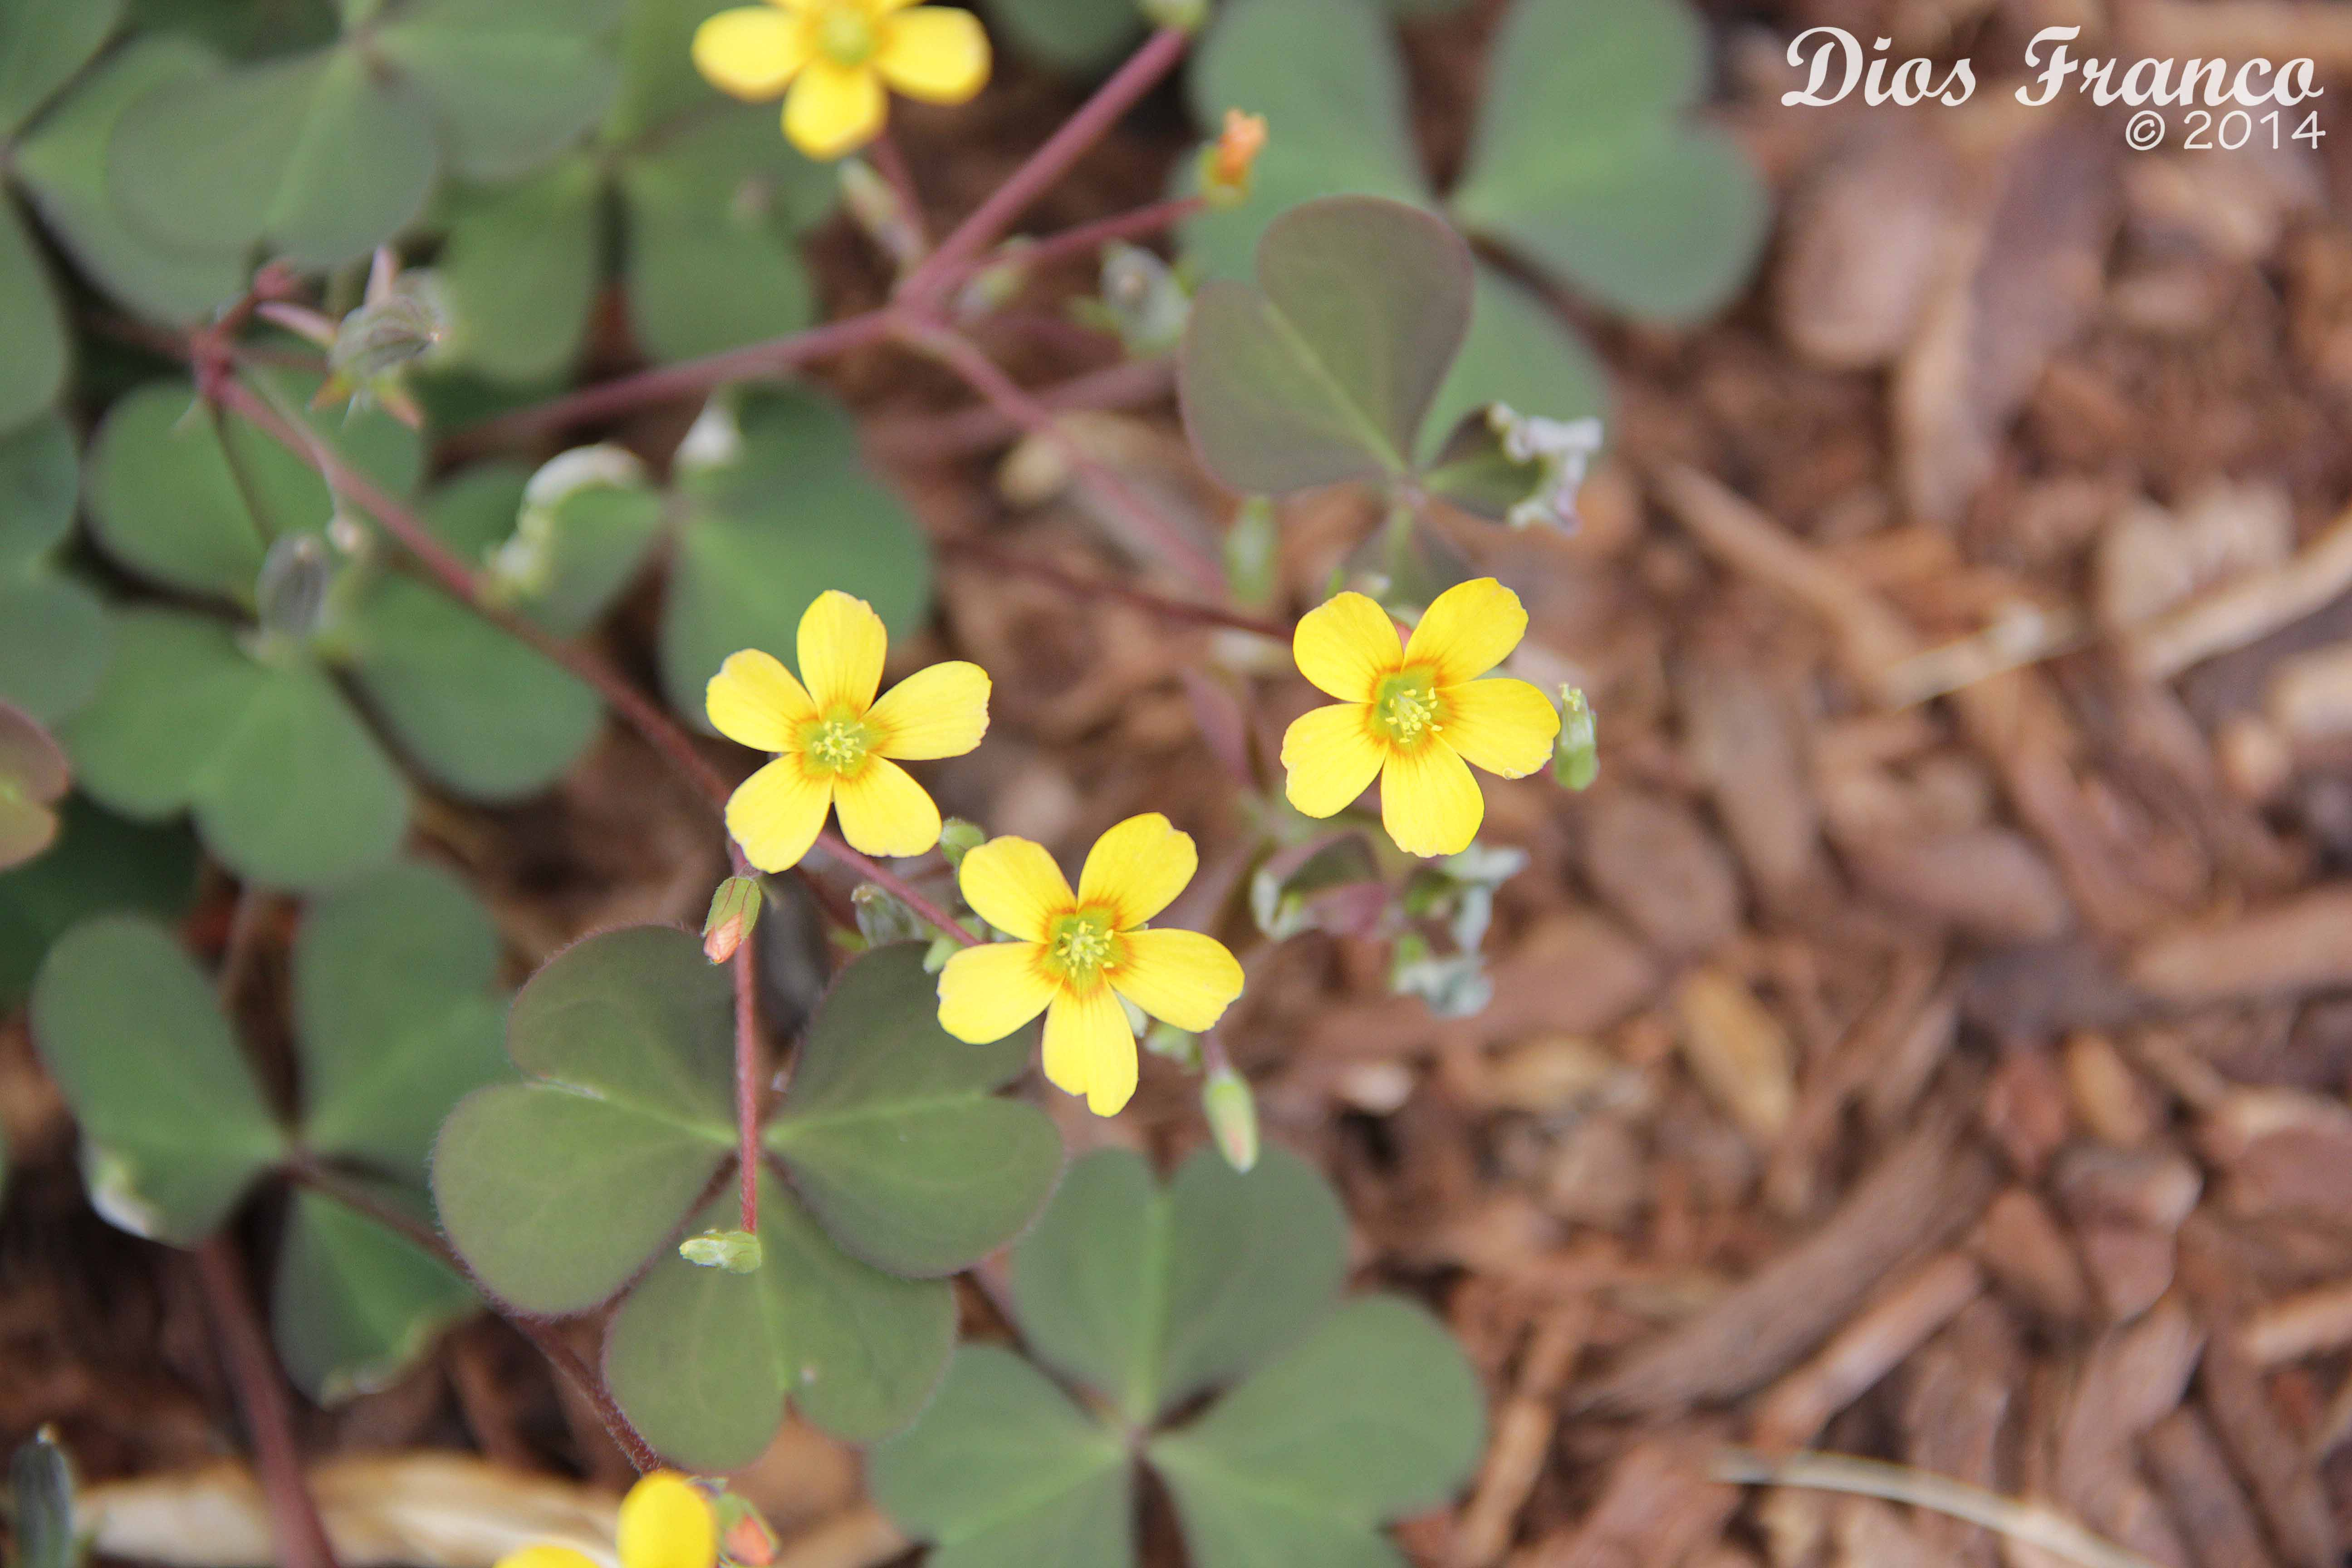oxalis: (12, 17, 1656, 1568)
